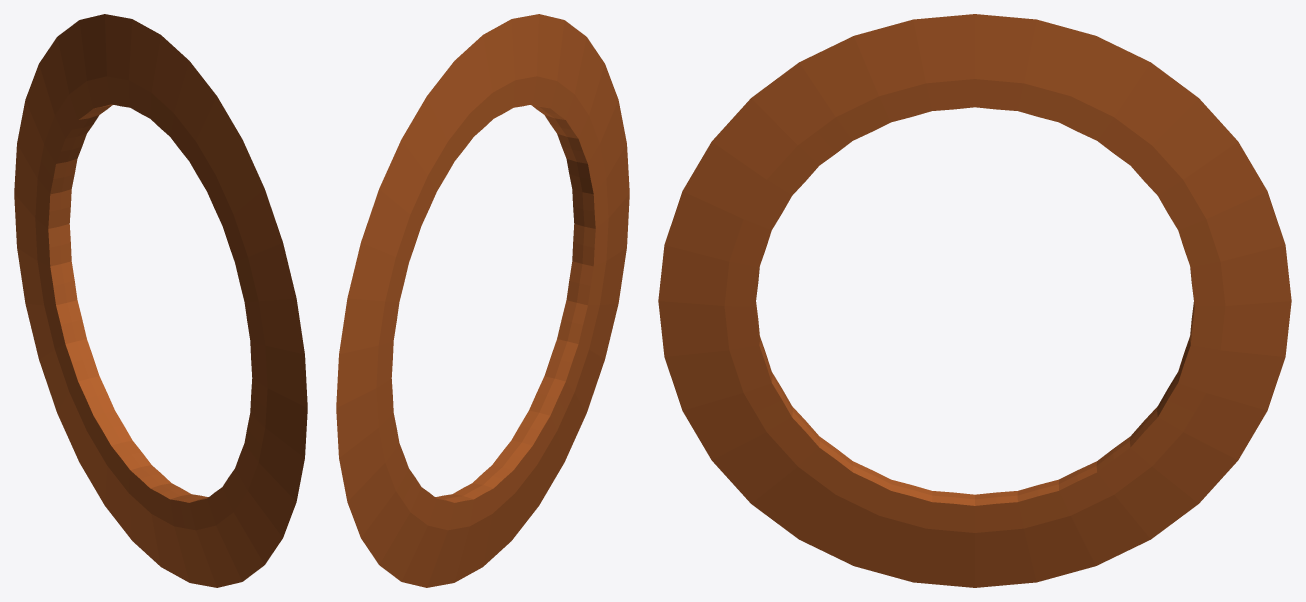
File: ItemRing.fbx
The picture shows the model from 3 angles, left to right: view 1: azimuth 30°, elevation 25°; view 2: azimuth 150°, elevation 25°; view 3: azimuth 270°, elevation 25°; orthographic projection. The views are drawn at different scales.
Parts seen in each view (by area): view 1: Cylinder.002; view 2: Cylinder.002; view 3: Cylinder.002.
Boxes of the visible parts, <box> form: Cylinder.002: <box>14,14,307,587</box>; Cylinder.002: <box>336,14,629,587</box>; Cylinder.002: <box>658,14,1291,587</box>.
Size of the model in its own units: 4.19 by 99.03 by 99.03.
